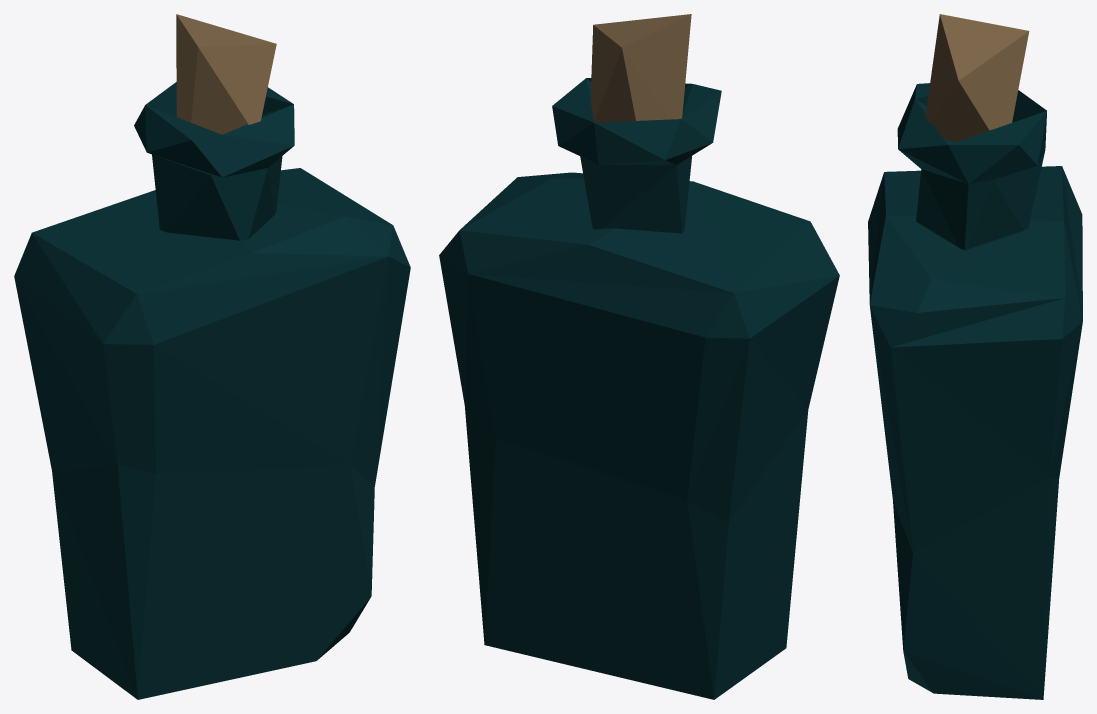
File: MDungeon_Bottle_03.FBX
The picture shows the model from 3 angles, left to right: view 1: azimuth 30°, elevation 25°; view 2: azimuth 150°, elevation 25°; view 3: azimuth 270°, elevation 25°; orthographic projection. The views are drawn at different scales.
Visible parts, largest first — view 1: MDungeon_Bottle_03_LOD0; view 2: MDungeon_Bottle_03_LOD0; view 3: MDungeon_Bottle_03_LOD0.
Part boxes in pixels (x1,y1,x2,y2): MDungeon_Bottle_03_LOD0: (14,14,410,699); MDungeon_Bottle_03_LOD0: (439,14,839,699); MDungeon_Bottle_03_LOD0: (868,14,1082,699).
Size of what is drawn, in the model's own units: 0.2212 by 0.4292 by 0.1357.
1 material, 1 textured.
